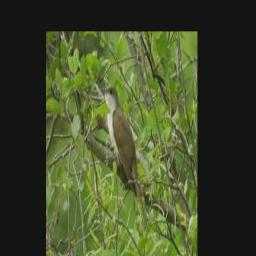Cuckoo: (102, 87, 147, 230)
